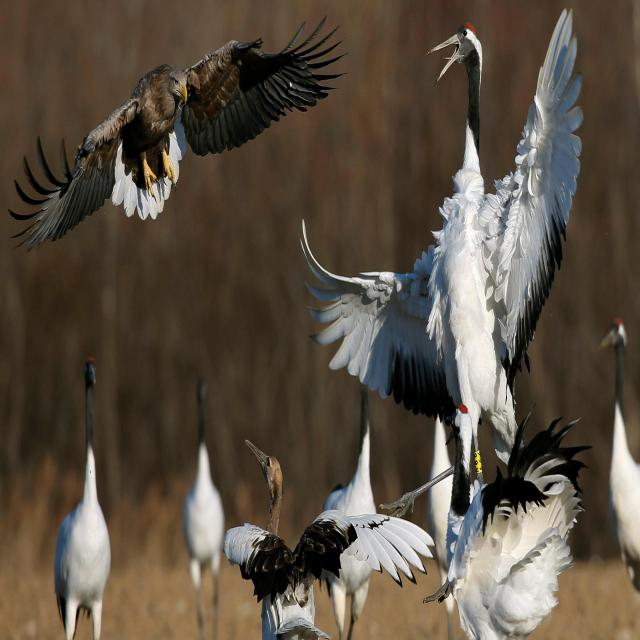bird: (312, 0, 618, 465), (12, 9, 351, 248), (219, 443, 432, 640), (441, 396, 594, 640), (53, 348, 110, 628), (600, 305, 640, 592), (177, 367, 226, 598)
